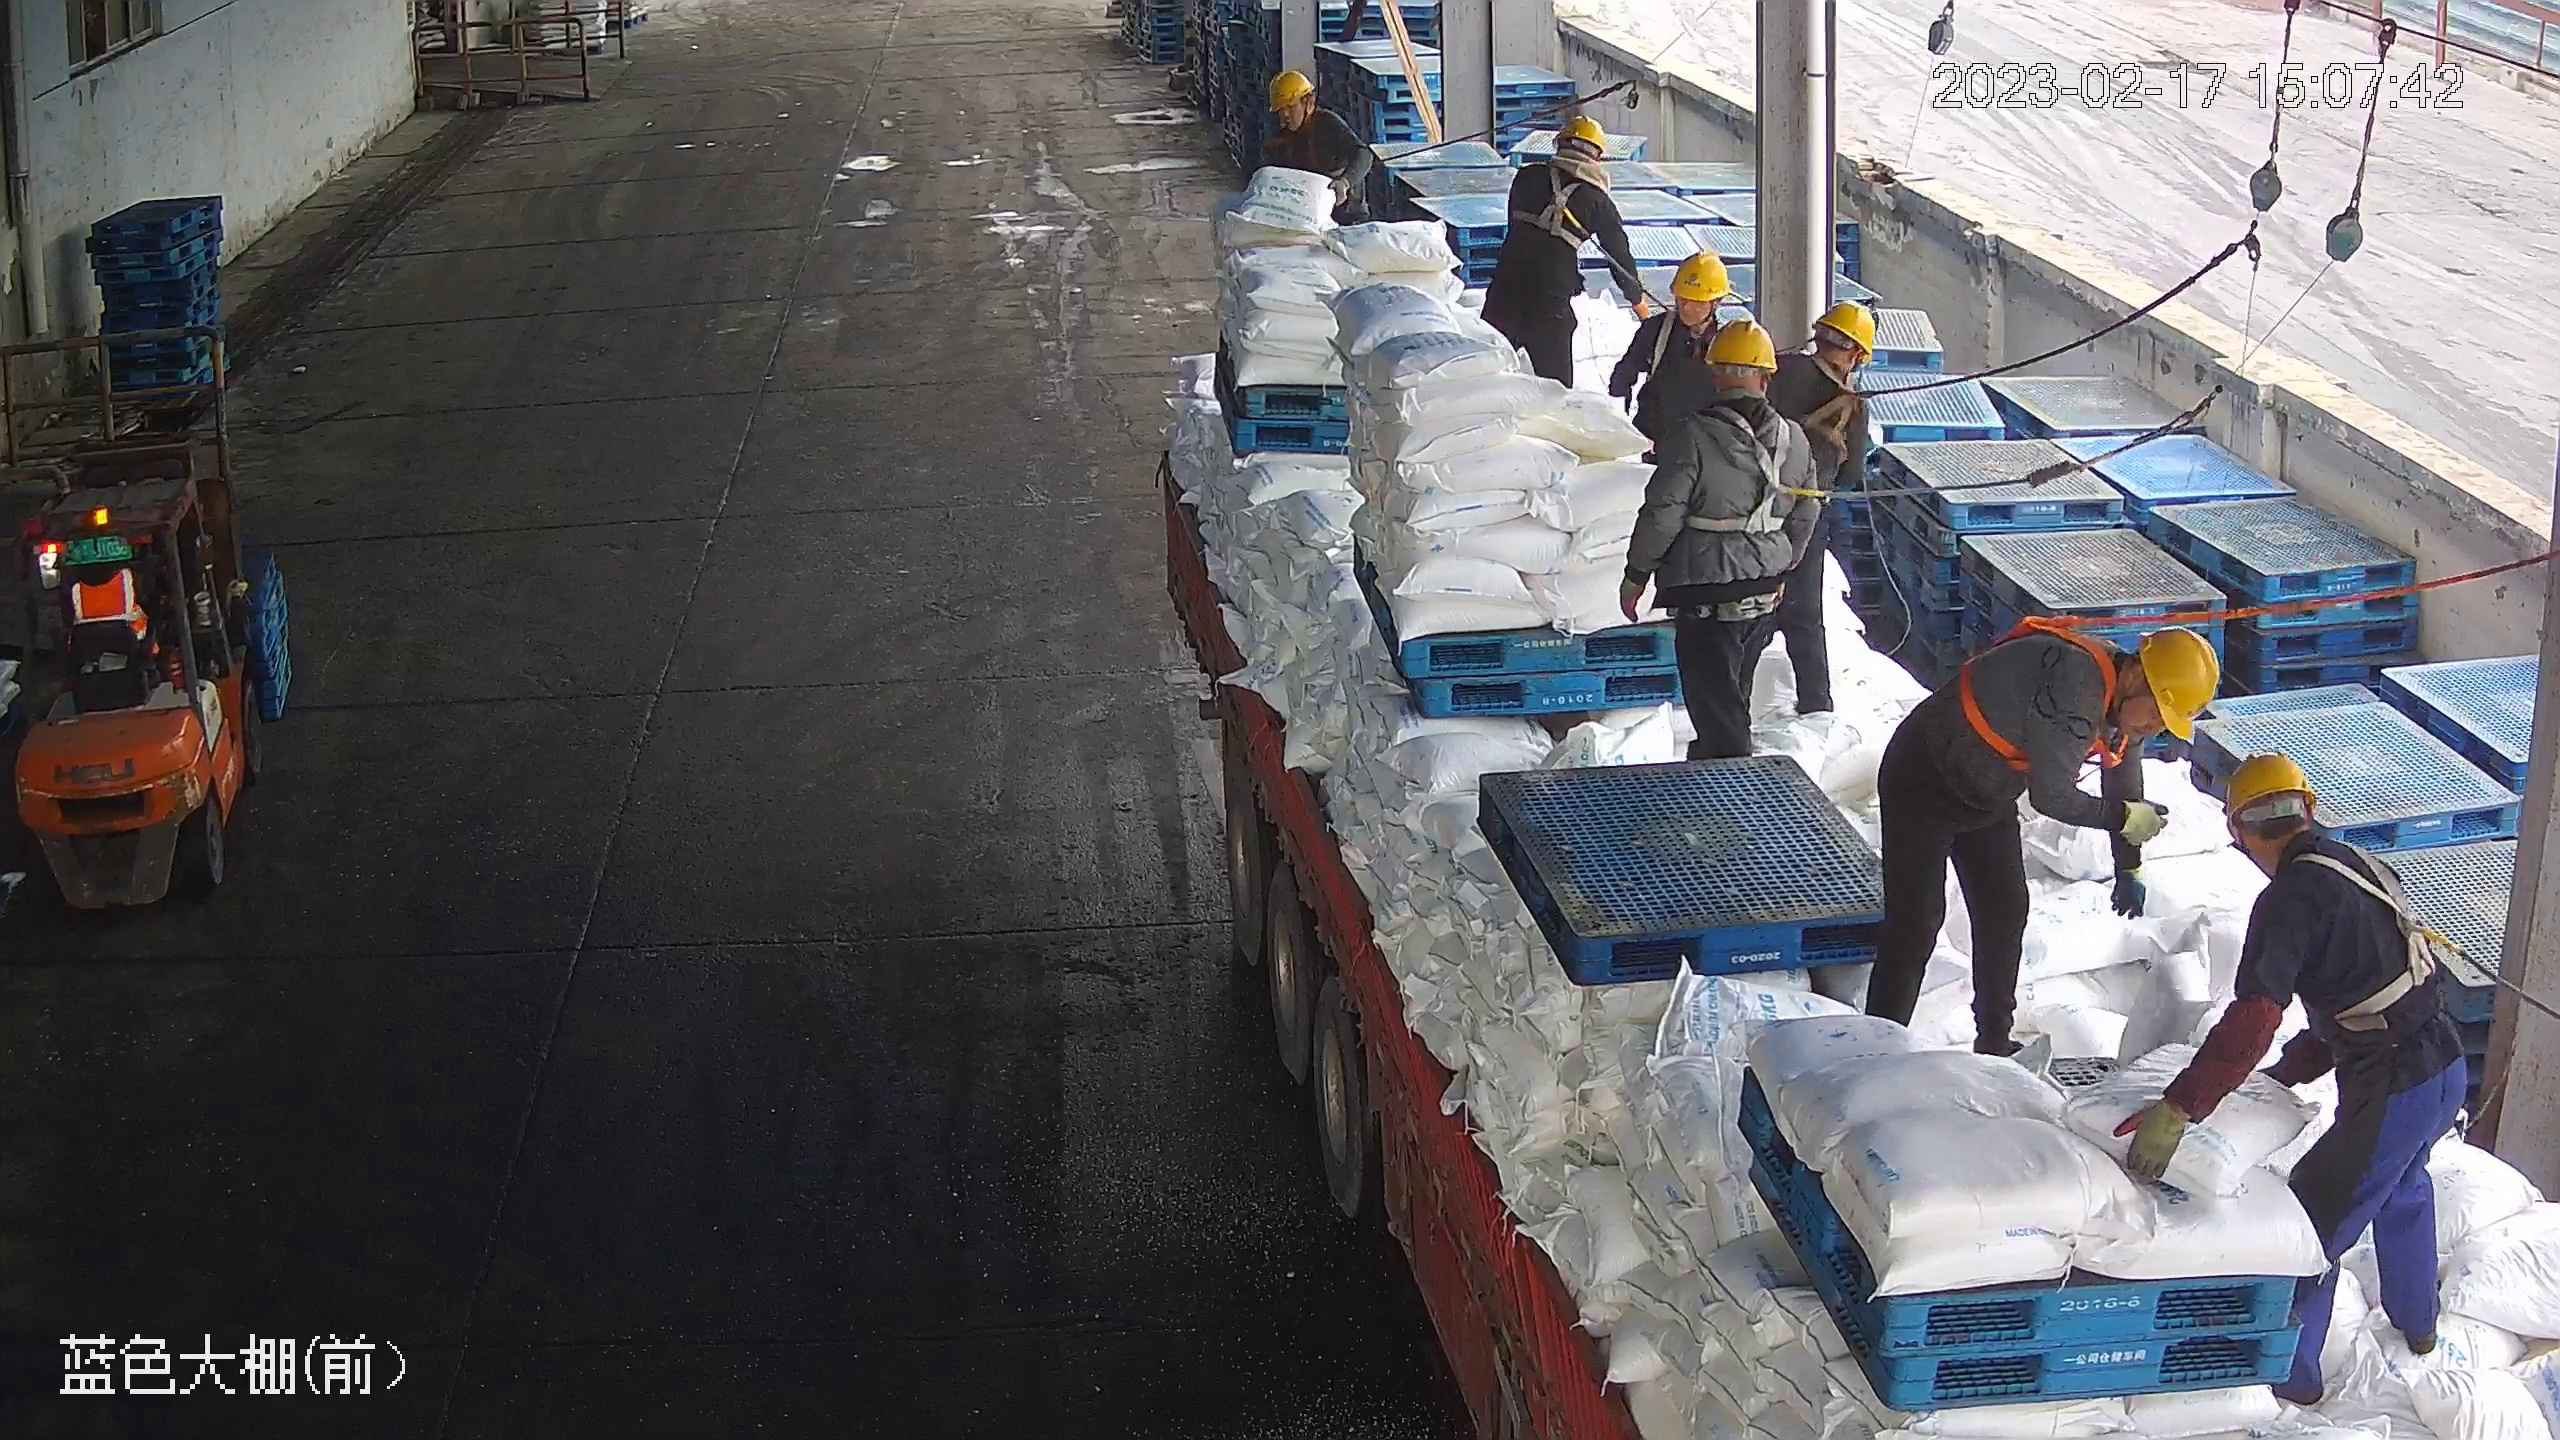belt: (1956, 596, 2130, 786), (2301, 839, 2461, 1045), (1679, 396, 1834, 544), (1510, 161, 1593, 252), (1795, 357, 1876, 449), (1280, 126, 1348, 175)
head: (2217, 752, 2422, 972), (2030, 622, 2218, 766), (1662, 318, 1815, 484), (1508, 117, 1622, 228), (1255, 71, 1370, 178), (1771, 298, 1877, 410), (1640, 256, 1744, 372)
people: (2115, 754, 2473, 1411), (1866, 625, 2220, 1056), (1618, 322, 1822, 767), (1762, 301, 1879, 717), (1483, 115, 1651, 394)
truck: (1151, 413, 2560, 1440)
